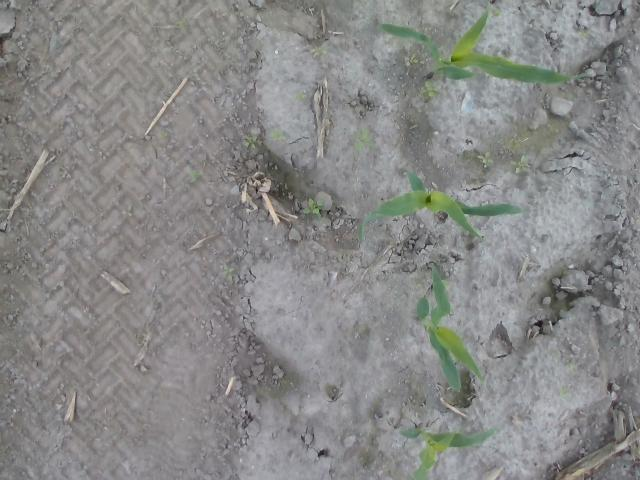Maize: (377, 3, 572, 88), (356, 172, 523, 243), (414, 264, 484, 392), (399, 425, 499, 480)
Weeds: (304, 196, 324, 217), (509, 153, 528, 175), (355, 128, 369, 152), (422, 80, 438, 99), (477, 151, 494, 167), (404, 52, 420, 65), (242, 134, 256, 148), (222, 264, 236, 278), (270, 130, 286, 140), (312, 46, 325, 56), (190, 171, 200, 182), (295, 90, 305, 100), (442, 280, 449, 288)
